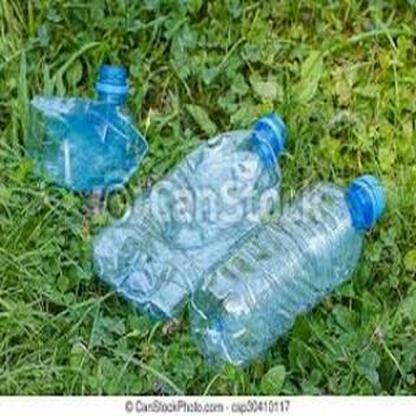plastic bottle: (93, 115, 285, 317), (186, 175, 386, 364), (29, 65, 149, 189)
